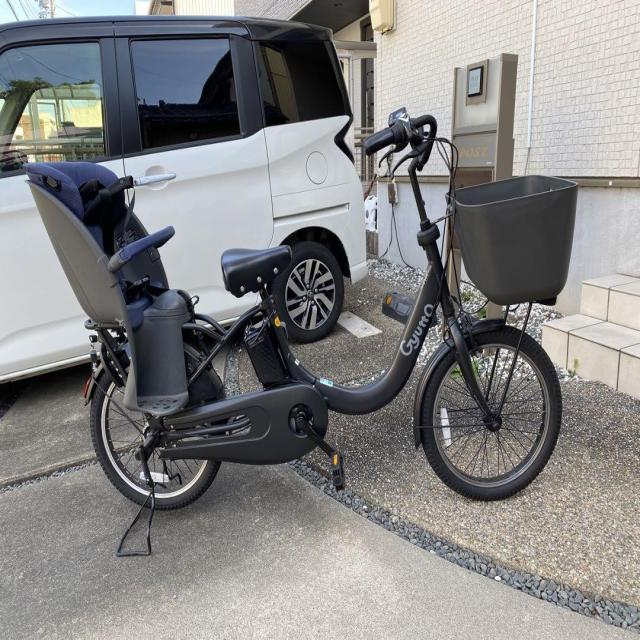basket: (444, 172, 576, 304)
battery: (243, 318, 289, 396)
childseat: (24, 162, 197, 412)
